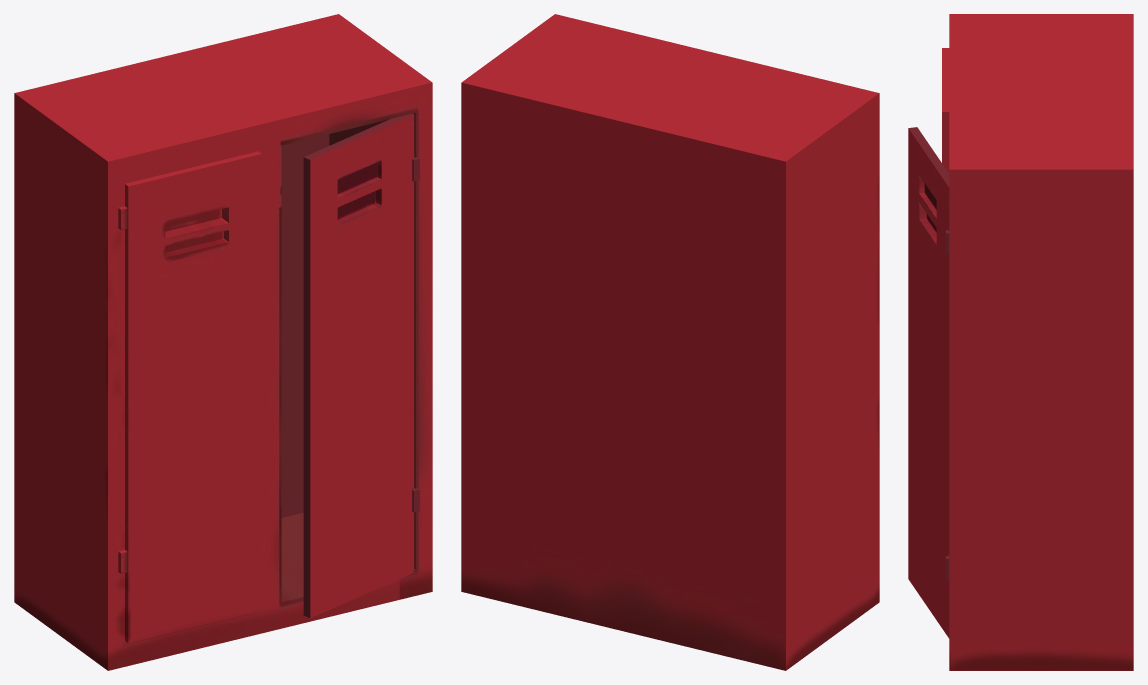
The model's file is Locker_prefab.fbx.
3 renders of one model, left to right at view 1: azimuth 30°, elevation 25°; view 2: azimuth 150°, elevation 25°; view 3: azimuth 270°, elevation 25°, orthographic.
Visible parts, largest first — view 1: Locker, PuertaAbierta; view 2: Locker; view 3: Locker, PuertaAbierta.
Boxes of the visible parts, bbox=[...] form: Locker: bbox=[14, 14, 432, 670]; PuertaAbierta: bbox=[303, 113, 419, 618]; Locker: bbox=[461, 14, 879, 670]; Locker: bbox=[942, 14, 1133, 670]; PuertaAbierta: bbox=[908, 127, 949, 638].
Bounding box in the file's own units: 4 × 6 × 2.44.
2 materials, 2 textured.
